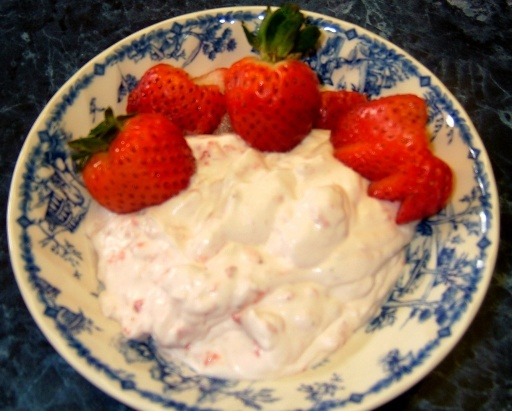background: (52, 1, 363, 245)
